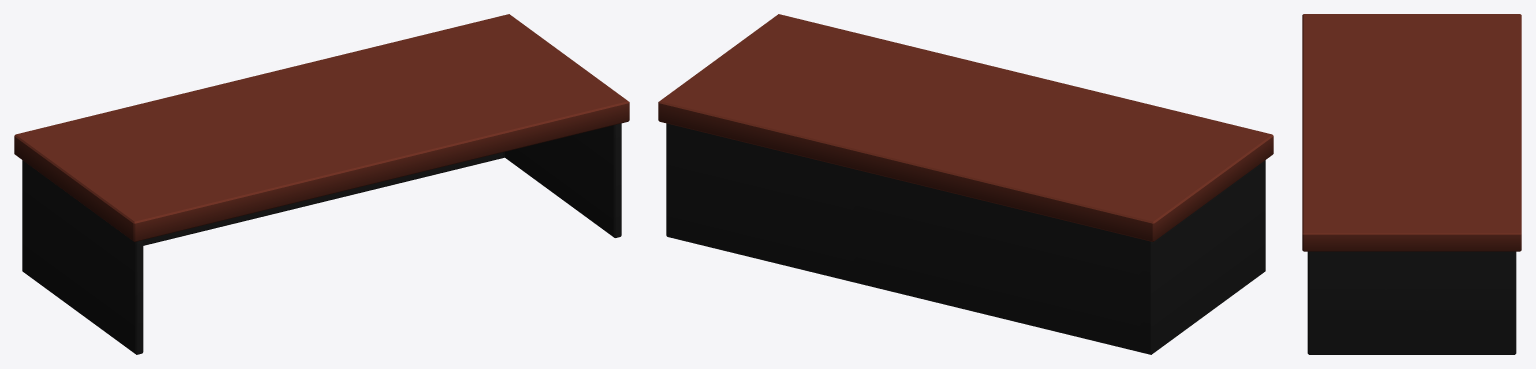
File: SM_Desk.fbx
3 renders of one model, left to right at view 1: azimuth 30°, elevation 25°; view 2: azimuth 150°, elevation 25°; view 3: azimuth 270°, elevation 25°, orthographic. The views are drawn at different scales.
Parts seen in each view (by area): view 1: Desk; view 2: Desk; view 3: Desk.
Part boxes in pixels (x1,y1,x2,y2): Desk: (14, 14, 629, 354); Desk: (658, 14, 1273, 354); Desk: (1302, 14, 1521, 354).
Size of the model in its own units: 1900 by 500 by 800.
